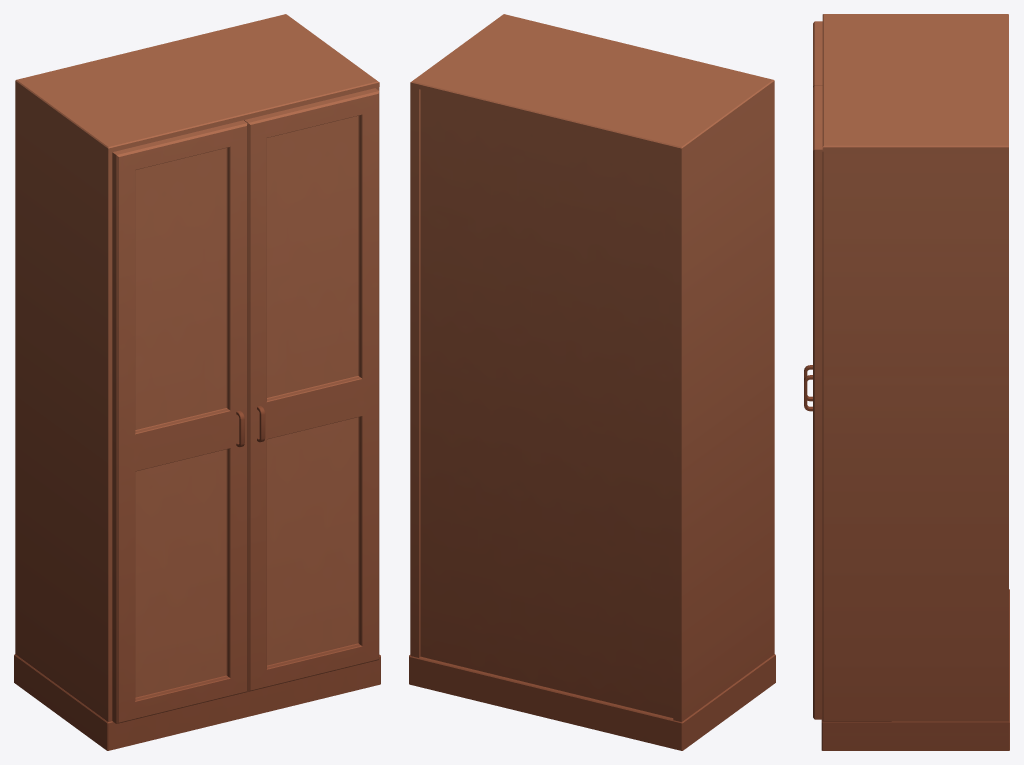
File: Wardrobe.glb
The picture shows the model from 3 angles, left to right: view 1: azimuth 30°, elevation 25°; view 2: azimuth 150°, elevation 25°; view 3: azimuth 270°, elevation 25°; orthographic projection.
Parts seen in each view (by area): view 1: Wardrobe, WardrobeDoorL, WardrobeDoorR; view 2: Wardrobe; view 3: Wardrobe, WardrobeDoorR, WardrobeDoorL.
Boxes of the visible parts, x1,y1,x2,y2 form: Wardrobe: [14, 14, 380, 750]; WardrobeDoorL: [112, 120, 247, 723]; WardrobeDoorR: [244, 88, 379, 691]; Wardrobe: [409, 14, 775, 750]; Wardrobe: [821, 14, 1009, 750]; WardrobeDoorR: [804, 85, 822, 719]; WardrobeDoorL: [804, 21, 822, 401].
Bounding box in the file's own units: 0.9688 × 2.04 × 0.6295.
Materials: 1 (1 with a texture image).
